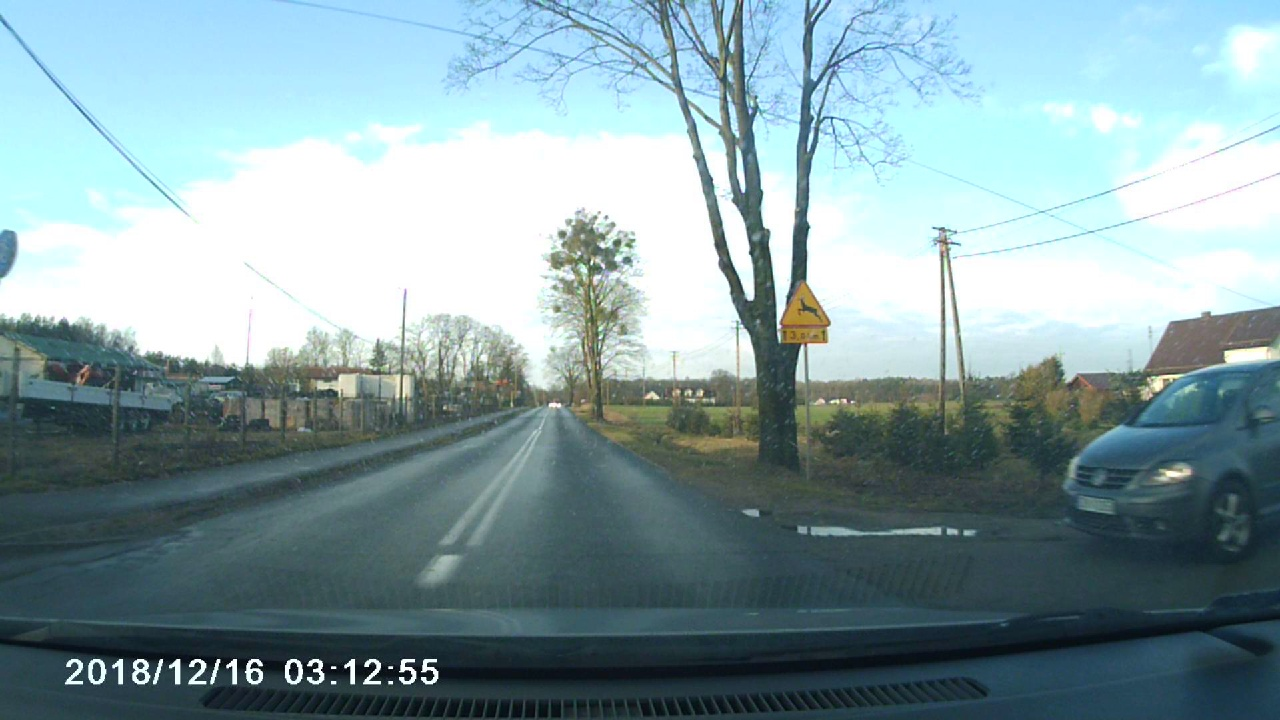A18b: (779, 281, 832, 327)
